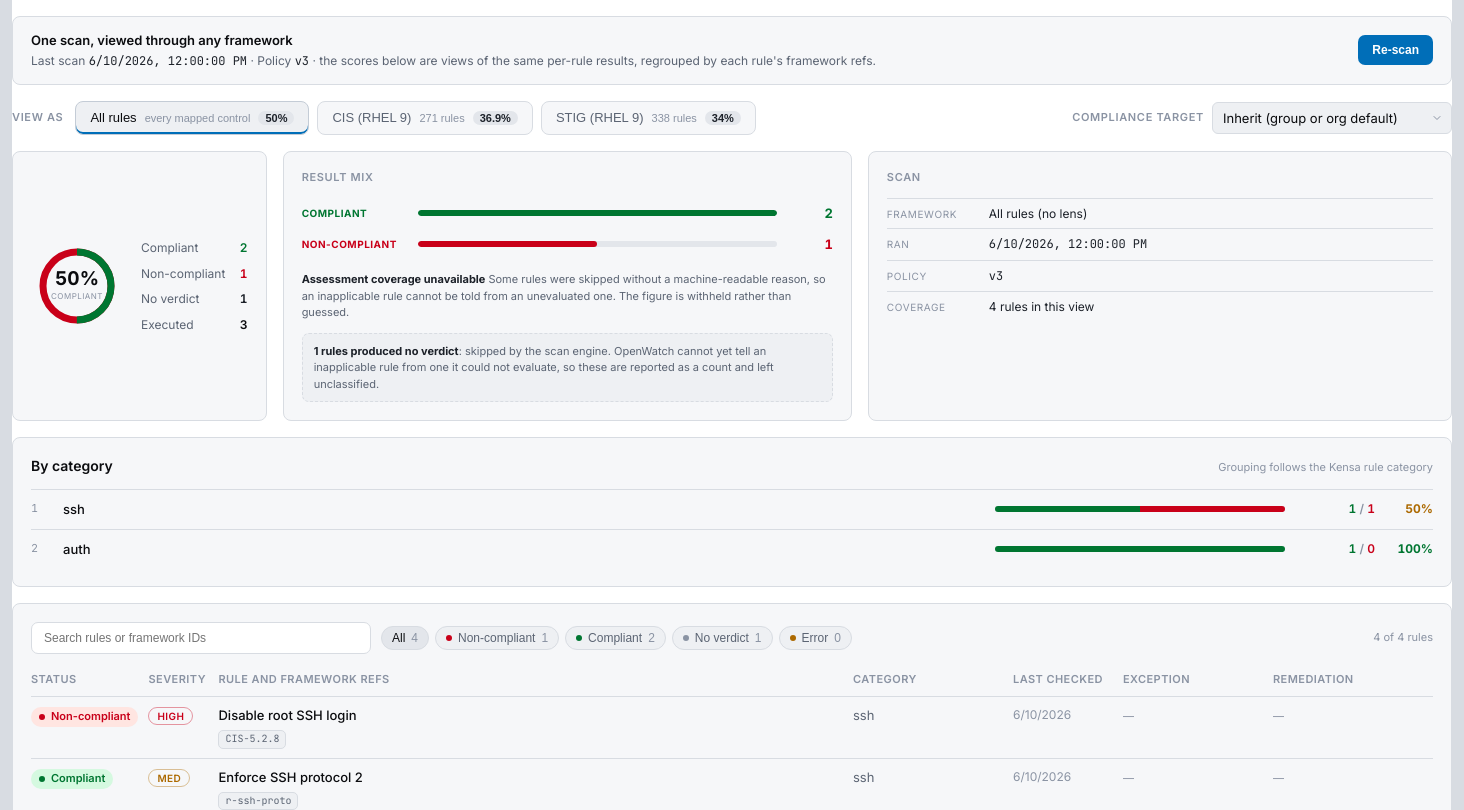
it: frontend-host-compliance-tab — re-scan › frontend-host-compliance-tab/AC-08 — Re-scan posts once with an Idempotency-Key; 409 renders Scan already running
Check: the text "Disable root SSH login" is shown, box x1=218 y1=707 x2=357 y2=723
Click the button with aria-label "Re-scan this host": point(1396, 50) x1=1358 y1=35 x2=1433 y2=65
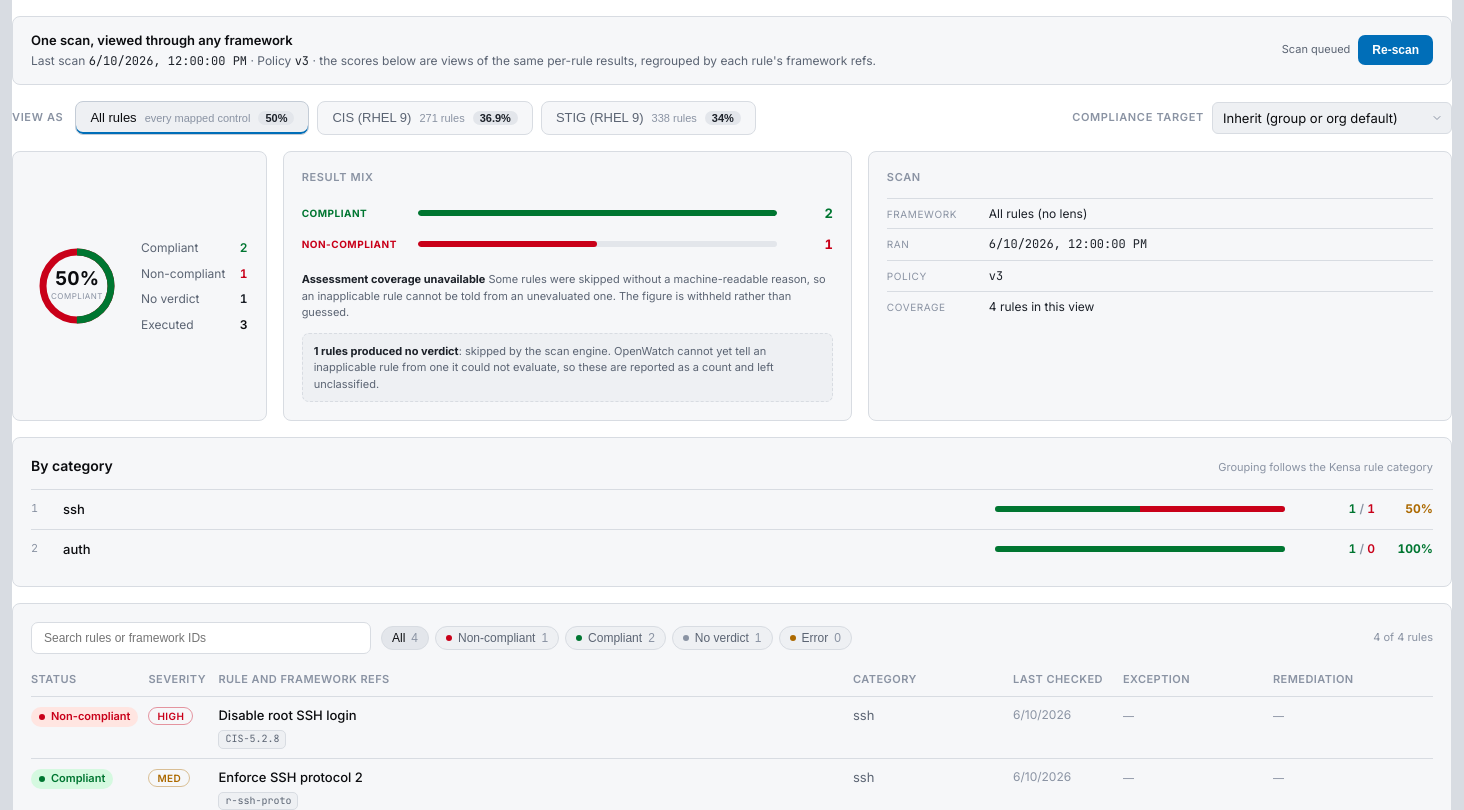
Check: the text "Scan queued" is shown, box x1=1282 y1=42 x2=1350 y2=58
Click the button with aria-label "Re-scan this host": point(1396, 50) x1=1358 y1=35 x2=1433 y2=65
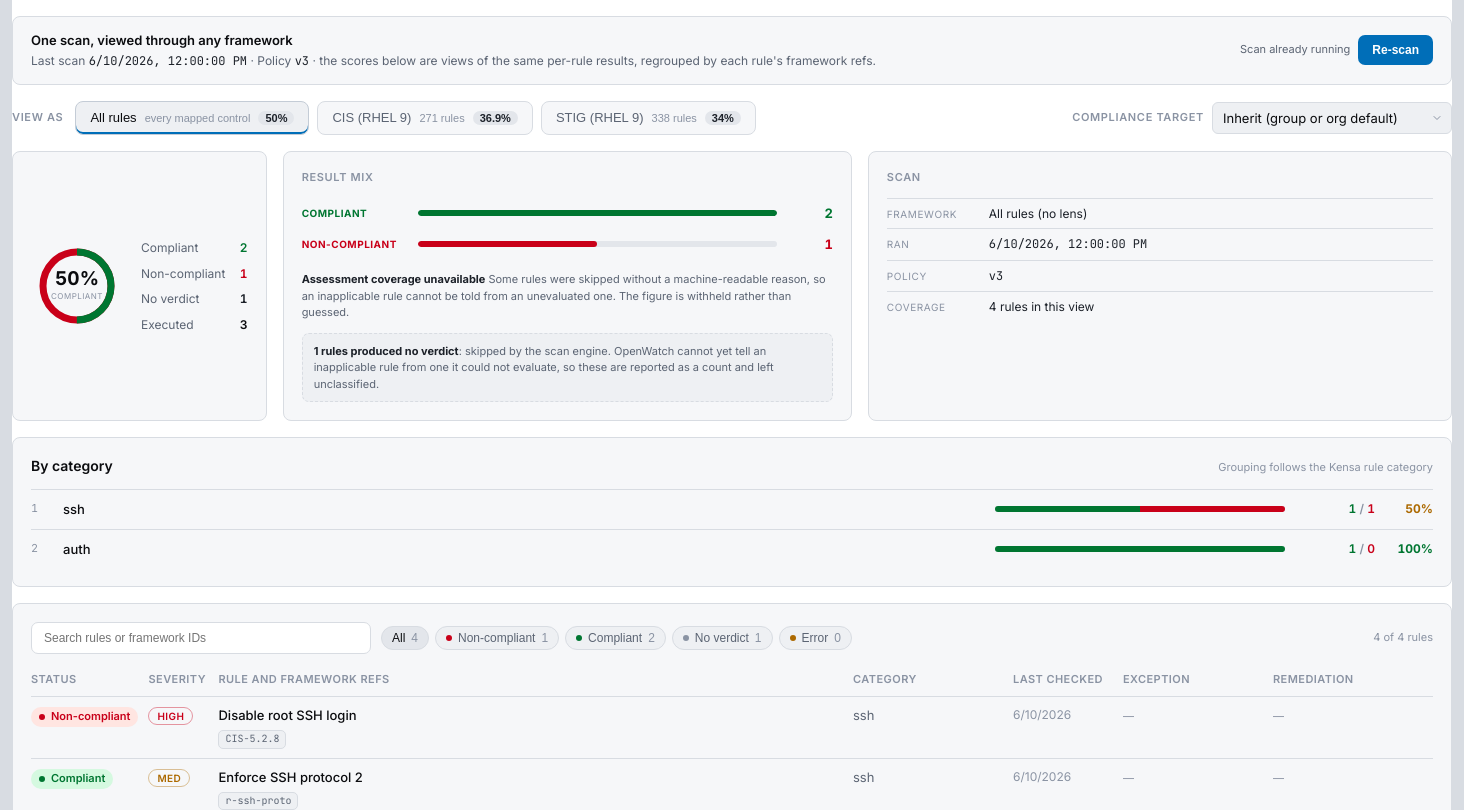
Check: the text "Scan already running" is shown, box x1=1240 y1=42 x2=1350 y2=58
